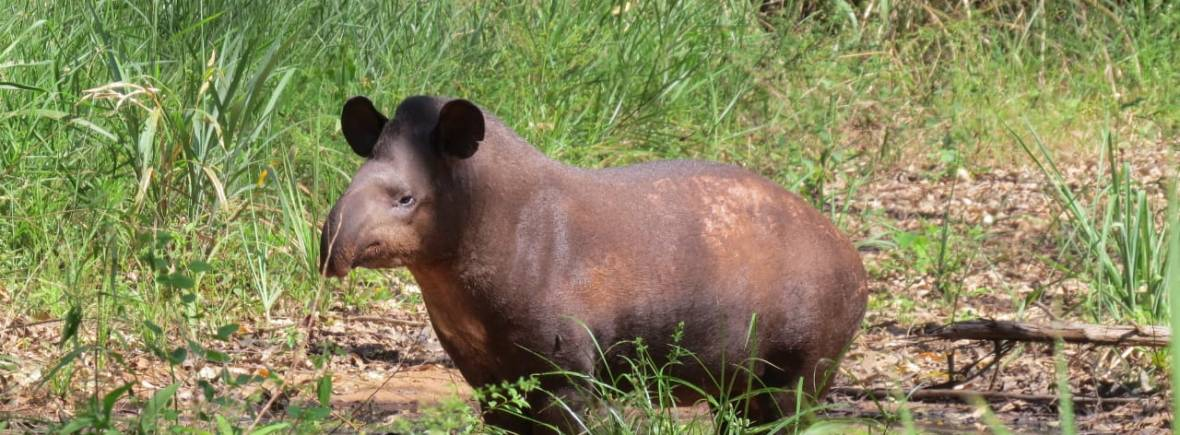Anta: (307, 77, 862, 419)
